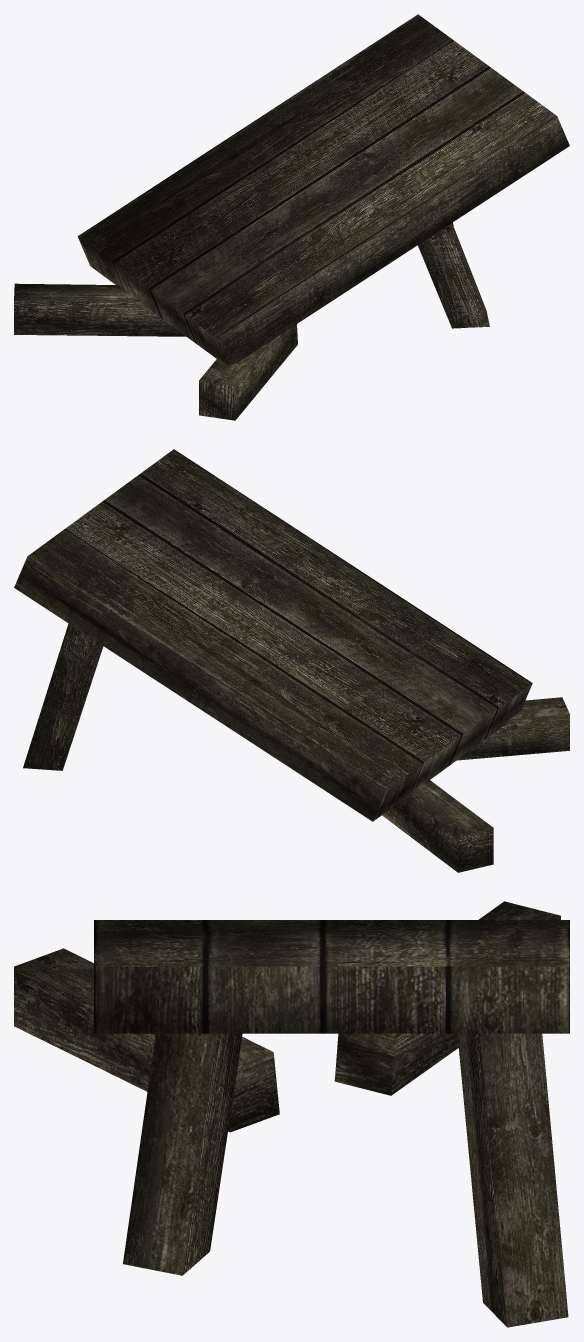
File: OC_MOB_TABLE_NORMAL_DEFECT.glb
3 views of the same model, one above another, from view 1: azimuth 30°, elevation 25°; view 2: azimuth 150°, elevation 25°; view 3: azimuth 270°, elevation 25° (orthographic). The views are drawn at different scales.
Visible parts, largest first — view 1: Mesh; view 2: Mesh; view 3: Mesh.
Part boxes in pixels (x1,y1,x2,y2): Mesh: (14,14,569,420); Mesh: (14,449,569,872); Mesh: (14,901,569,1327).
Bounding box in the file's own units: 1.85 × 0.8186 × 1.18.
1 material, 1 textured.
